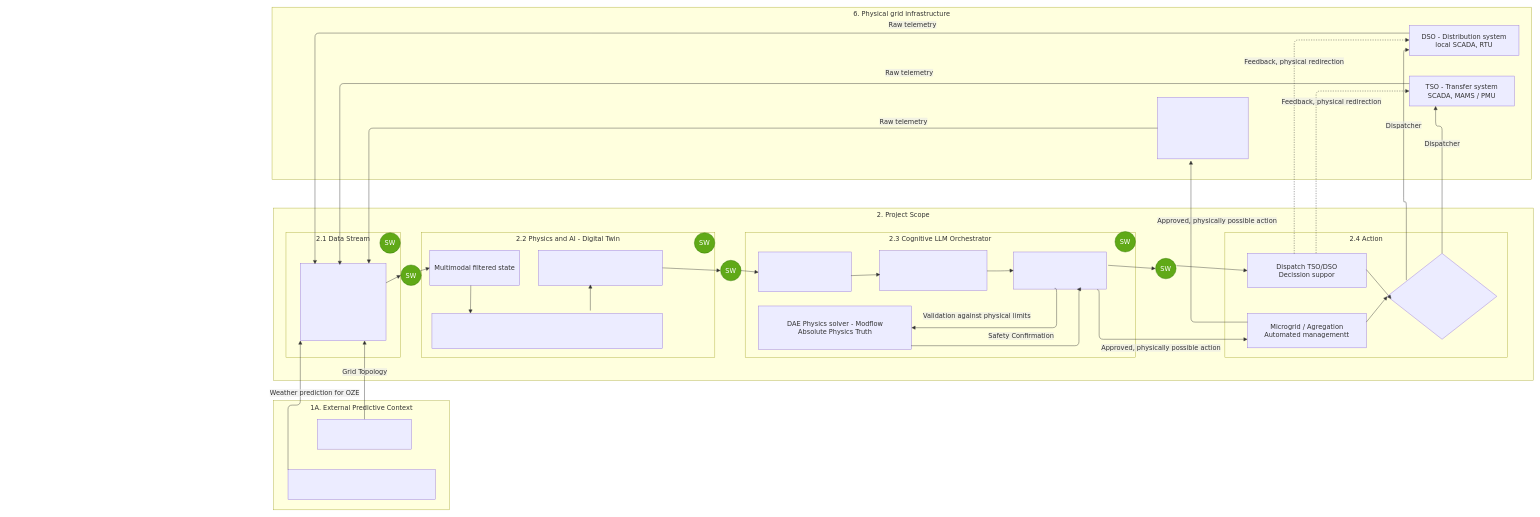
The diagram is 1540 pixels wide and 517 high, and some of its shapes have lost their labels. The shapes that lost their labels are listed below. From the top down, each one's centre as x and y in pixels, then its label:
point 1202,128: Terminal grids / Microgrids Smart Meters, OZE, BESS Dispatcher on premises
point 600,267: Prediction of incomming warnings and fluctuations
point 804,272: LLM Cognitive Analysis Decisions and strategy
point 933,270: Solution Suggestion, e.g. reconfiguration, choices BESS
point 1059,270: Failsafe Guardrails
point 343,302: Transformation, Filtering and space-time synchronization data
point 1442,296: Dispatcher either pass-throught or manual override
point 547,331: GNN / PINN Surrogate Models Prediction from Meteo and Space-time sync
point 364,434: Spacial data and GIS GPS grid nodes location
point 361,484: Meteo Forecasting Light exposure, Wind, Temperature, etc..
